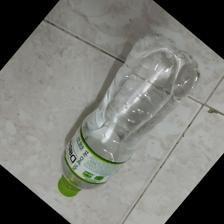Dasani: (54, 32, 203, 204)
